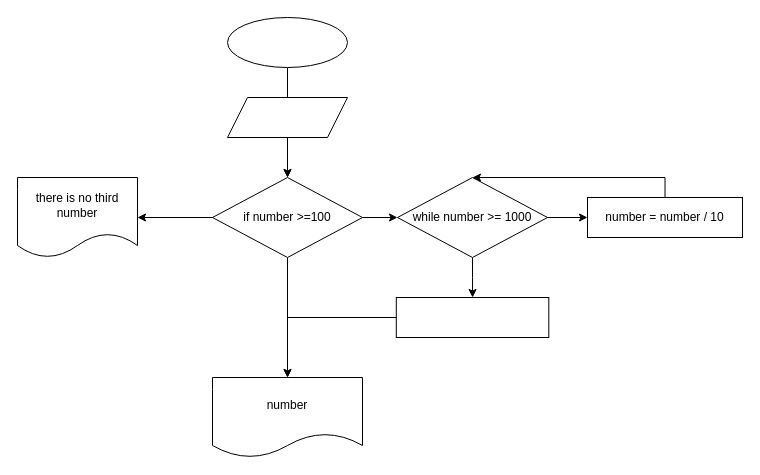
The diagram is 760 pixels wide and 475 high, and some of its shapes have lost their labels. Each missing label, with the centre of its shape:
int number: the point at 287,117
number = number mod 10: the point at 472,317
start: the point at 287,42
